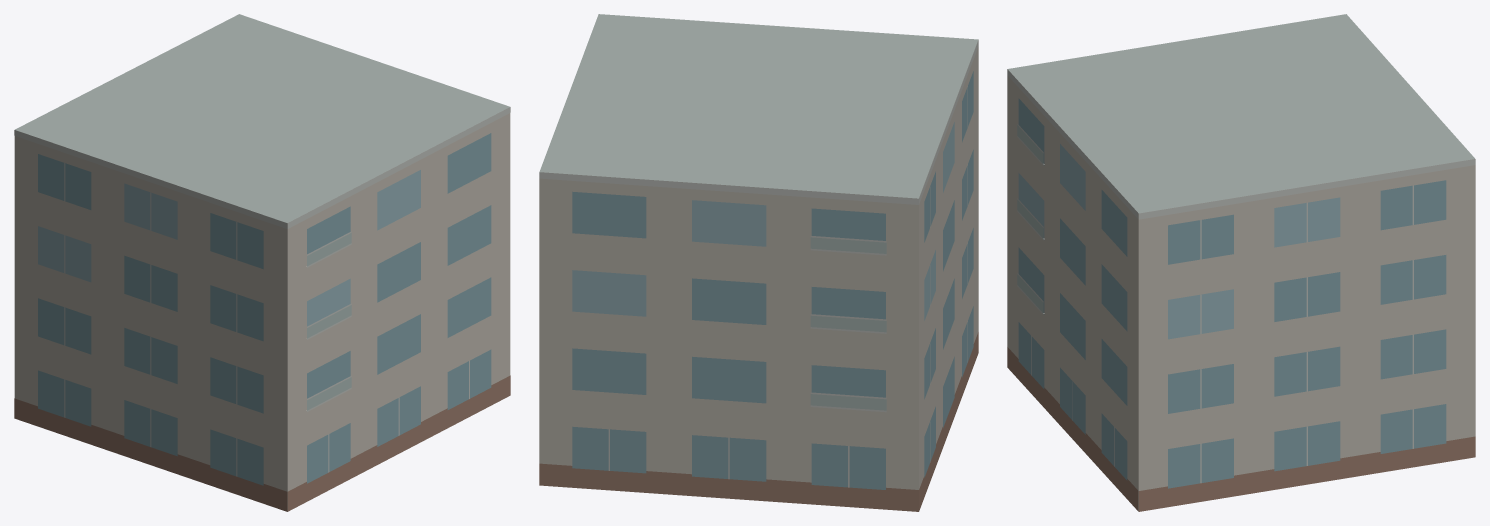
File: survey-upis-32722167.glb
3 views of the same model, side by side, from view 1: azimuth 30°, elevation 25°; view 2: azimuth 150°, elevation 25°; view 3: azimuth 270°, elevation 25° (orthographic). The views are drawn at different scales.
Visible parts, largest first — view 1: survey-upis-32722167.tmp; view 2: survey-upis-32722167.tmp; view 3: survey-upis-32722167.tmp.
Part boxes in pixels (x1,y1,x2,y2): survey-upis-32722167.tmp: (14,14,510,511); survey-upis-32722167.tmp: (539,14,978,511); survey-upis-32722167.tmp: (1007,14,1475,511).
Size of the model in its own units: 17 by 11.85 by 16.86.
